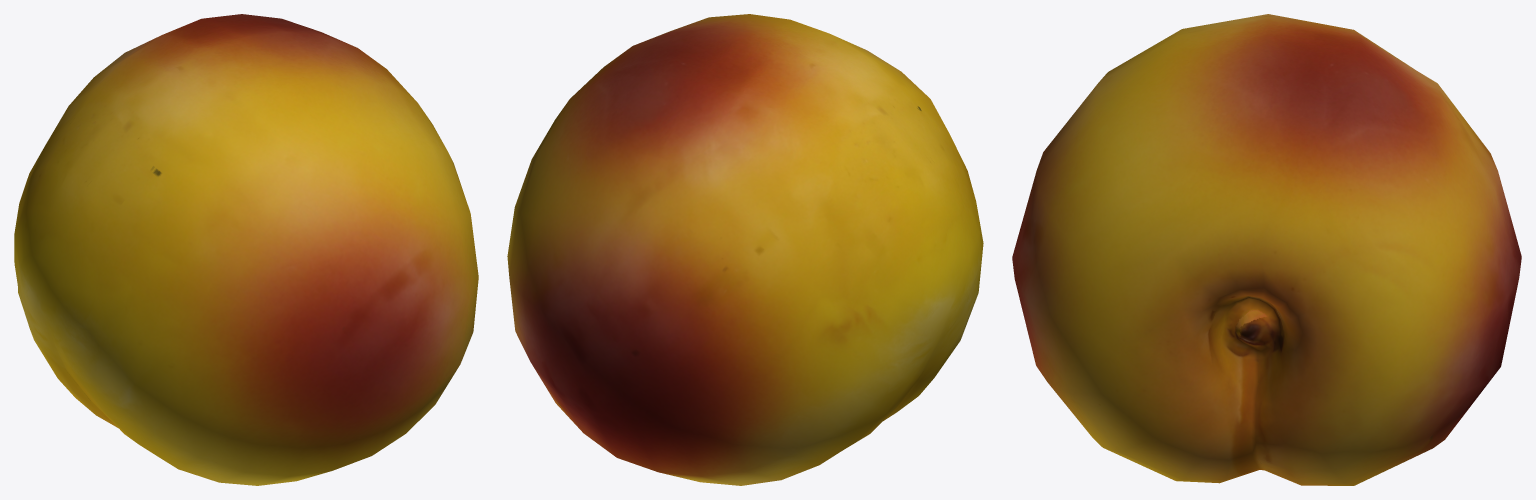
The model's file is 015_peach.dae.
3 views of the same model, side by side, from view 1: azimuth 30°, elevation 25°; view 2: azimuth 150°, elevation 25°; view 3: azimuth 270°, elevation 25° (orthographic). The views are drawn at different scales.
Visible parts, largest first — view 1: 015_peach; view 2: 015_peach; view 3: 015_peach.
Boxes of the visible parts, <box> form: 015_peach: <box>14,14,478,485</box>; 015_peach: <box>507,14,983,485</box>; 015_peach: <box>1012,14,1521,485</box>.
Size of the model in its own units: 0.0582 by 0.0638 by 0.0591.
1 material, 1 textured.
